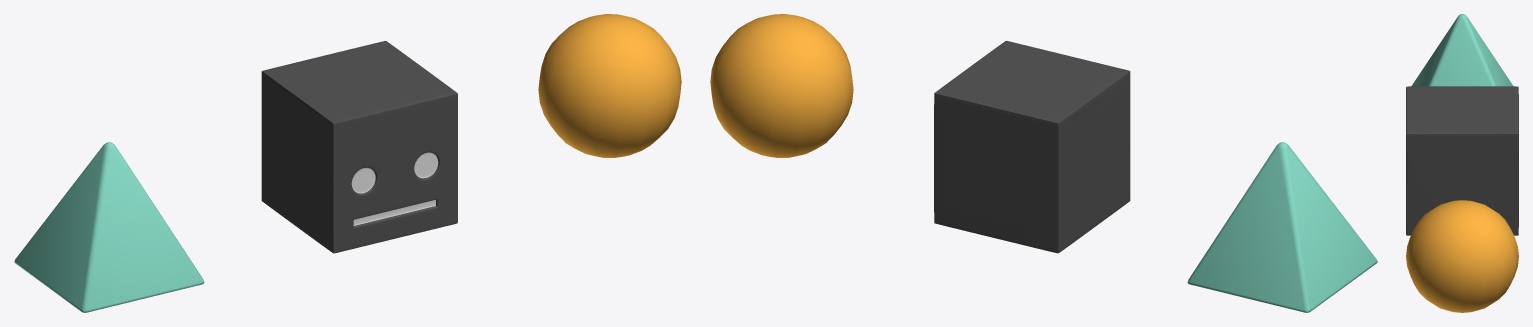
File: tres.glb
3 renders of one model, left to right at view 1: azimuth 30°, elevation 25°; view 2: azimuth 150°, elevation 25°; view 3: azimuth 270°, elevation 25°, orthographic. The views are drawn at different scales.
Parts seen in each view (by area): view 1: Cube, Triangle, Sphere; view 2: Cube, Triangle, Sphere; view 3: Cube, Sphere, Triangle.
Boxes of the visible parts, bbox=[...] form: Cube: bbox=[261, 41, 457, 253]; Triangle: bbox=[14, 142, 204, 312]; Sphere: bbox=[538, 14, 681, 157]; Cube: bbox=[934, 40, 1130, 253]; Triangle: bbox=[1187, 142, 1377, 312]; Sphere: bbox=[710, 14, 853, 157]; Cube: bbox=[1406, 86, 1518, 235]; Sphere: bbox=[1406, 200, 1518, 312]; Triangle: bbox=[1411, 14, 1513, 86].
Size of the model in its own units: 9.98 by 2 by 2.
